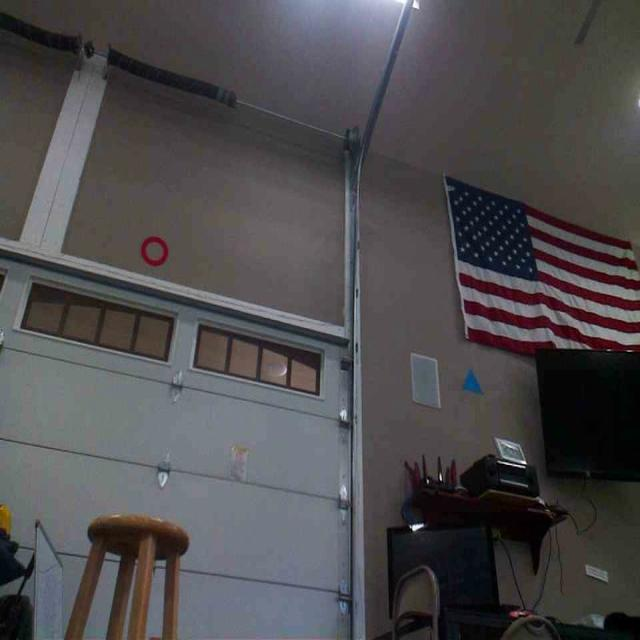ring_red: (141, 234, 168, 265)
triangle_blue: (462, 368, 482, 393)
